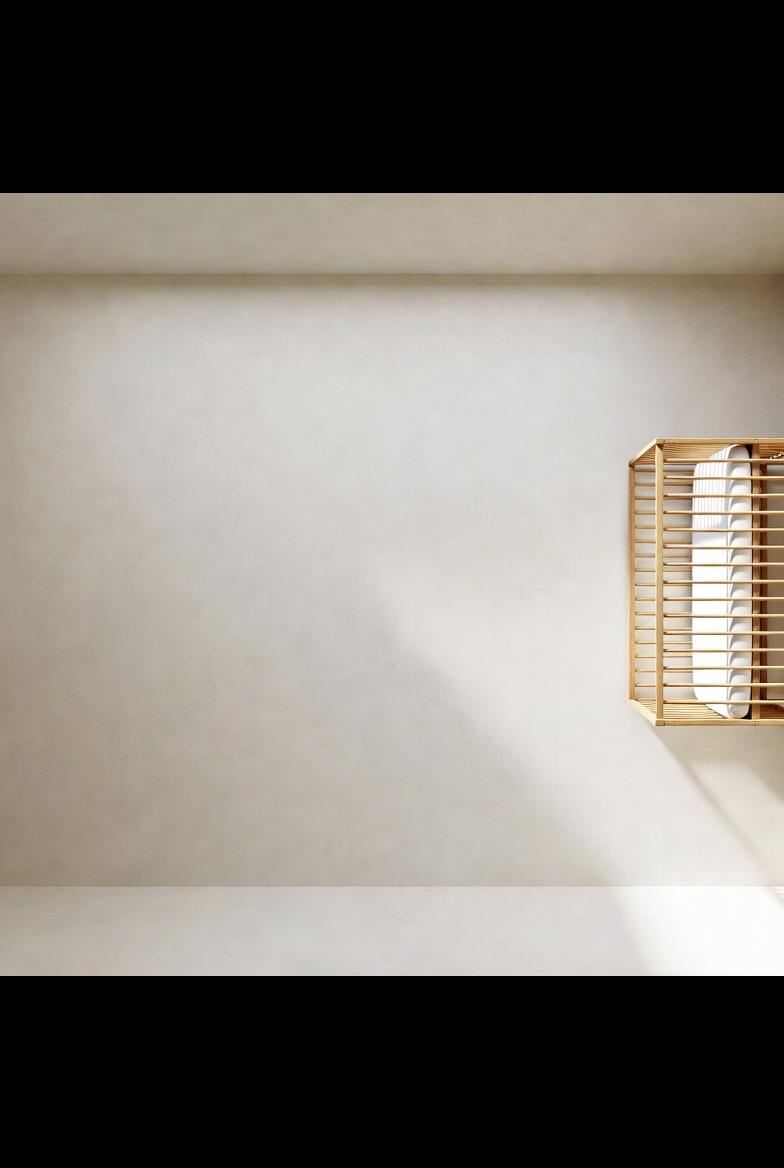crib: (629, 437, 784, 725)
